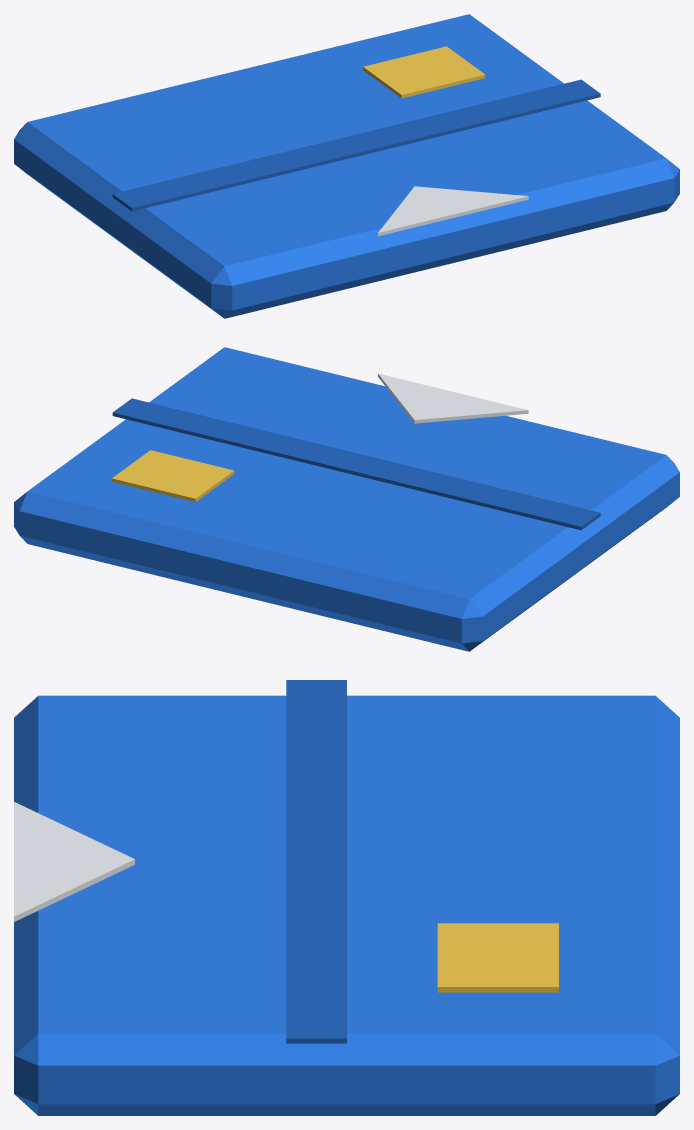
The model's file is tshirt.glb.
3 views of the same model, one above another, from view 1: azimuth 30°, elevation 25°; view 2: azimuth 150°, elevation 25°; view 3: azimuth 270°, elevation 25° (orthographic). The views are drawn at different scales.
Visible parts, largest first — view 1: tshirt; view 2: tshirt; view 3: tshirt.
Part boxes in pixels (box(x1,y1,x2,y2)): tshirt: box(14, 14, 679, 318); tshirt: box(14, 347, 679, 651); tshirt: box(14, 680, 679, 1115).
Size of the model in its own units: 0.28 by 0.032 by 0.22.
